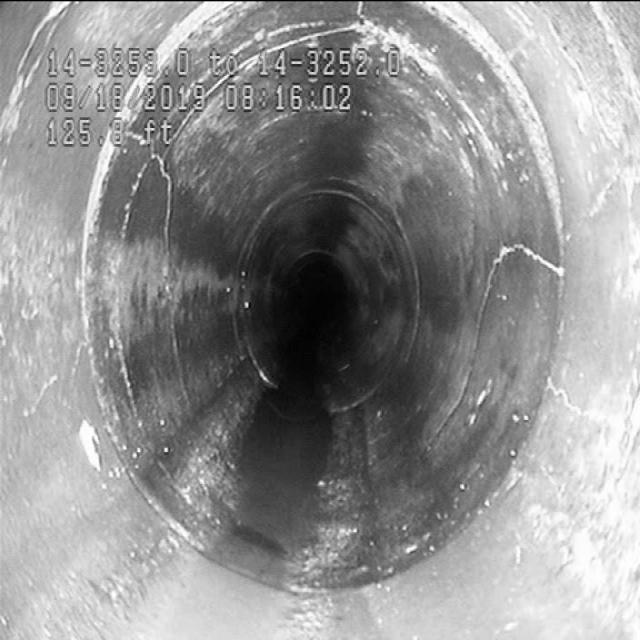Crack: (432, 232, 562, 428), (125, 162, 215, 414)
